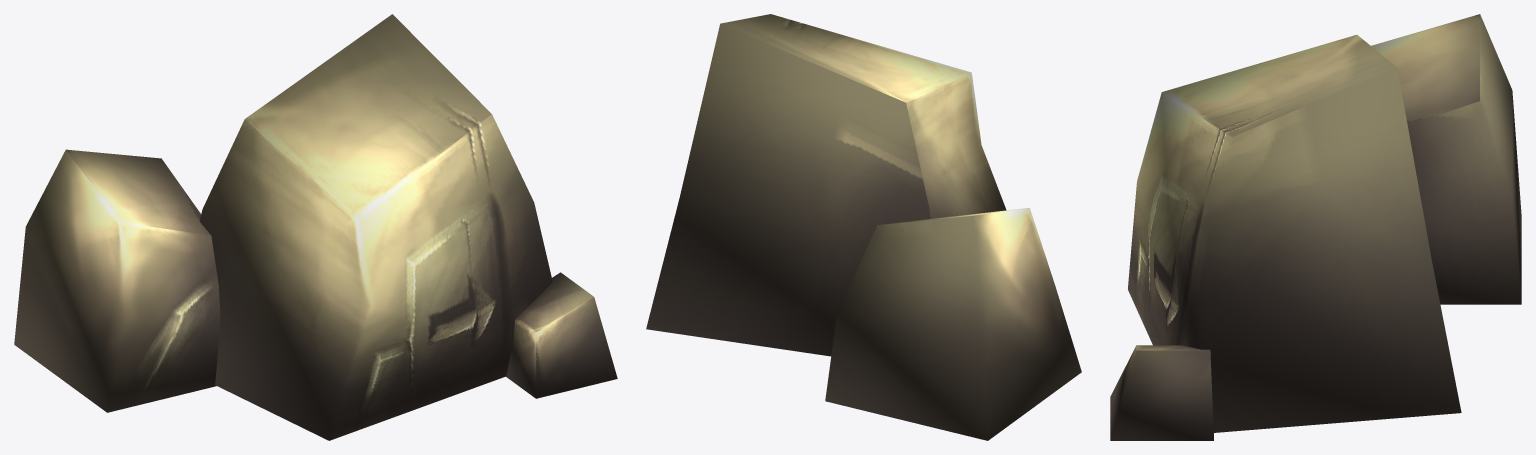
Rendered from pedraFase.fbx.
3 views of the same model, side by side, from view 1: azimuth 30°, elevation 25°; view 2: azimuth 150°, elevation 25°; view 3: azimuth 270°, elevation 25° (orthographic). The views are drawn at different scales.
Visible parts, largest first — view 1: Cube_002; view 2: Cube_002; view 3: Cube_002.
Part boxes in pixels (left/top/right/bottom): Cube_002: left=14, top=14, right=617, bottom=440; Cube_002: left=646, top=14, right=1081, bottom=440; Cube_002: left=1110, top=14, right=1521, bottom=440.
Bounding box in the file's own units: 6.33 × 4.26 × 4.91.
